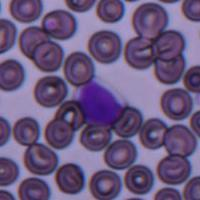L: (72, 75, 127, 127)
